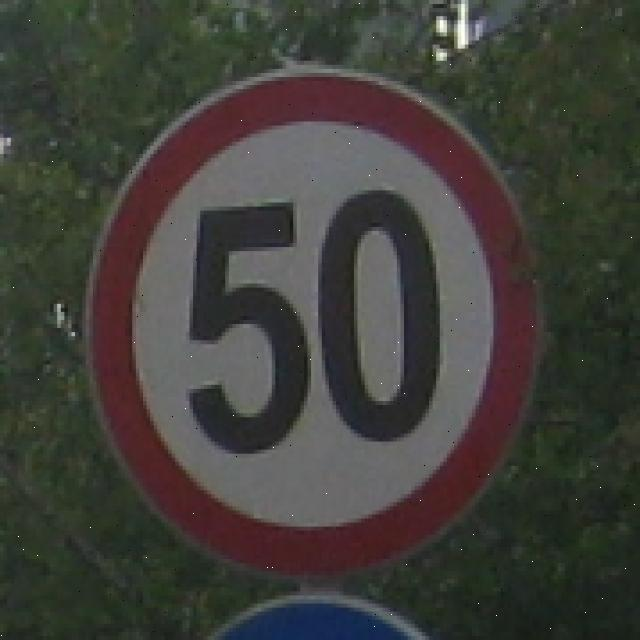speed limit 50: (84, 65, 541, 579)
